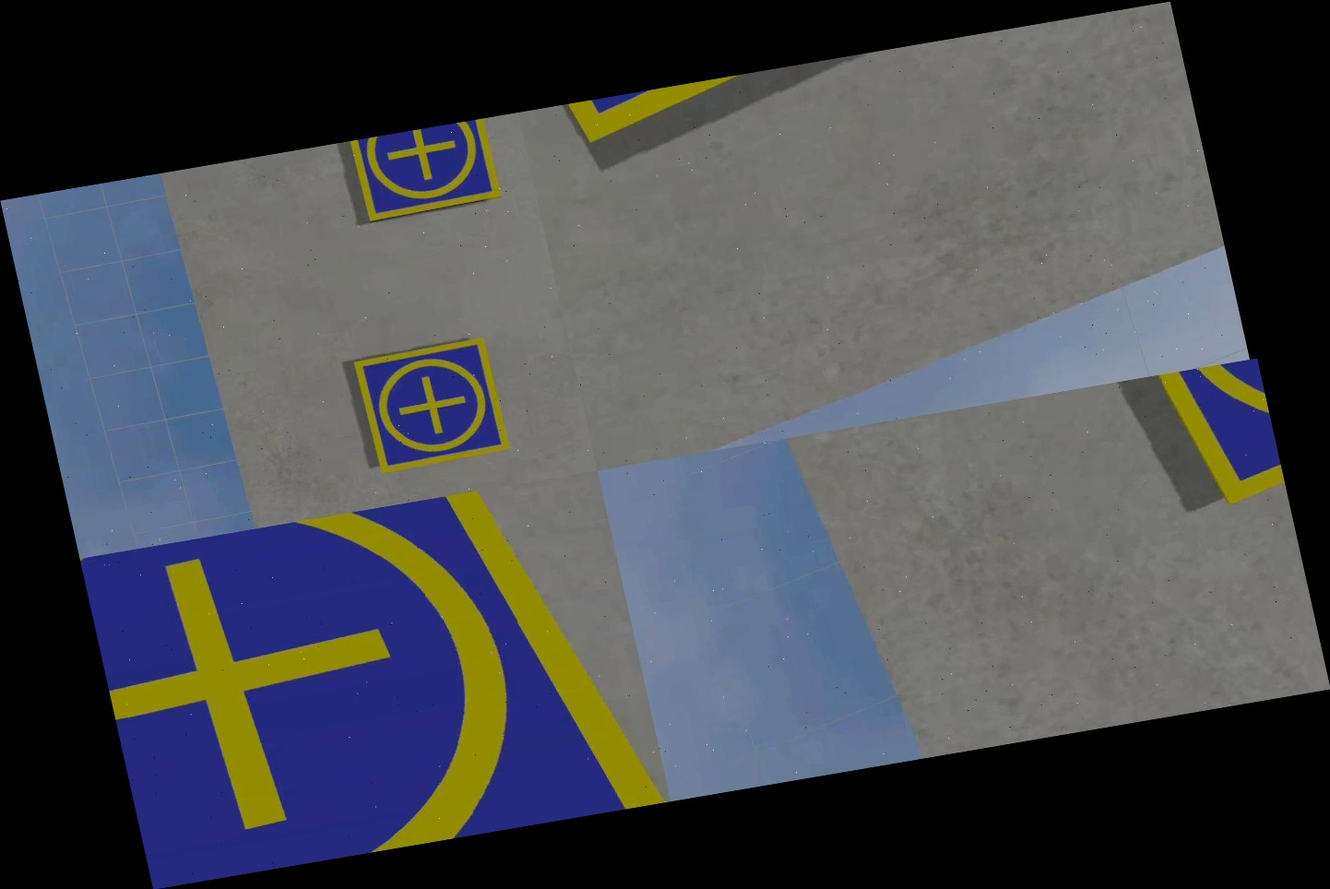small_base: (80, 470, 671, 889), (353, 336, 515, 476), (348, 117, 505, 223)
